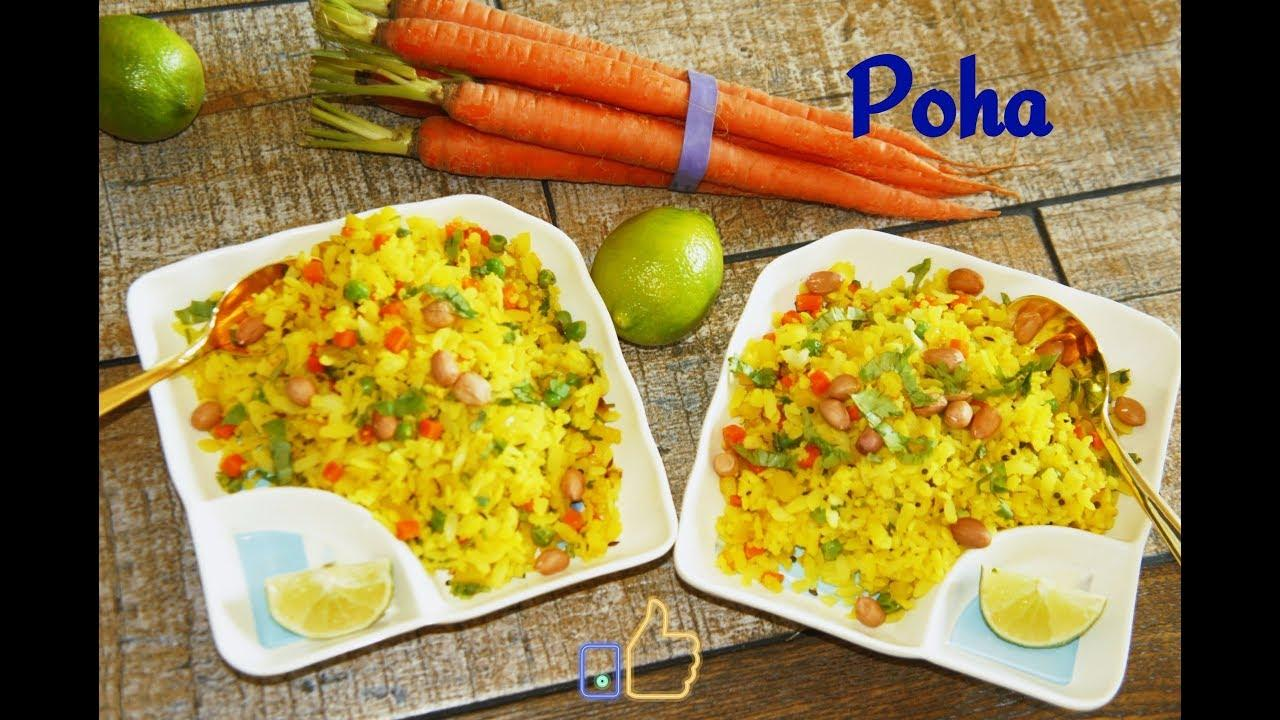poha: (181, 235, 634, 602), (713, 255, 1137, 626)
